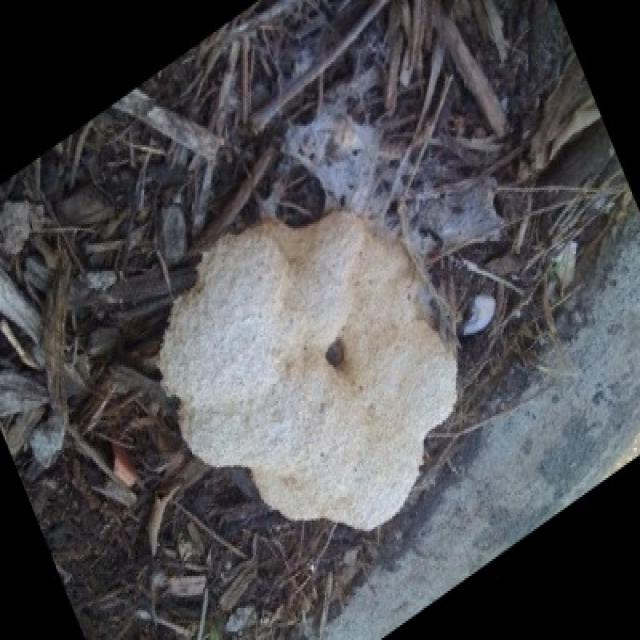Dog_vomit_slime_mold: (137, 174, 470, 545)
